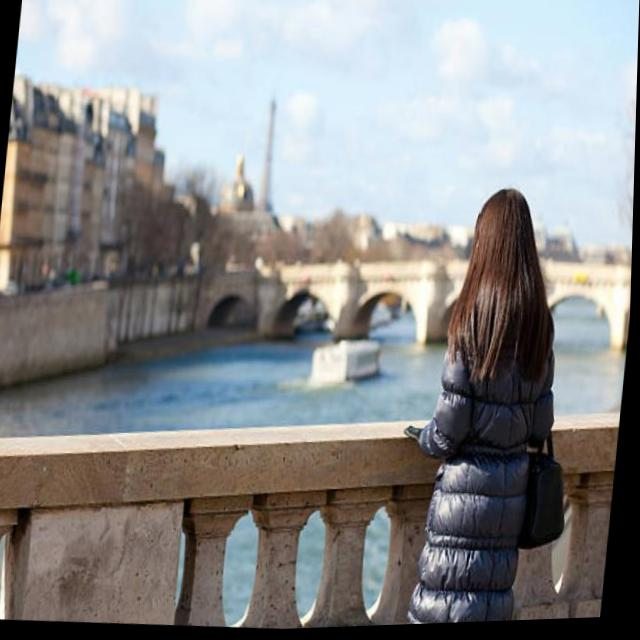no helmet: (447, 182, 572, 375)
